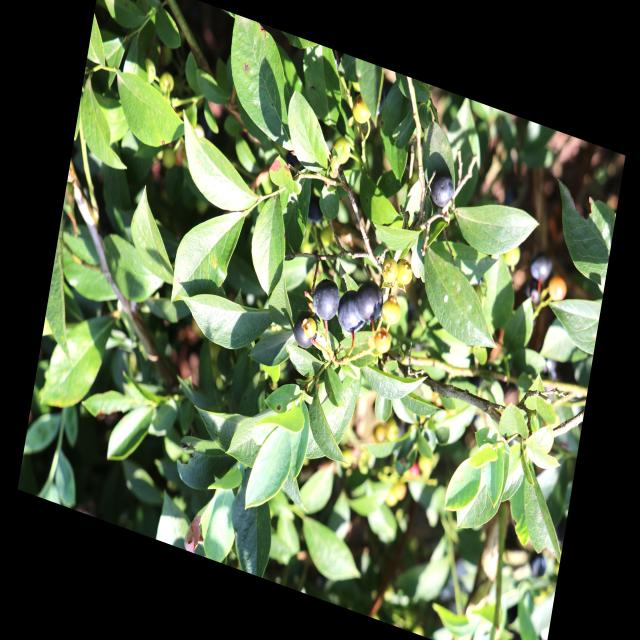blueberry: (310, 271, 344, 325), (335, 286, 368, 338), (352, 276, 385, 327), (292, 309, 321, 351), (428, 170, 456, 212), (302, 189, 328, 228), (524, 245, 552, 281)
blueberry-halfripe: (546, 272, 568, 305)
blueberry-unripe: (350, 92, 374, 128), (380, 296, 402, 328), (394, 256, 416, 288), (372, 324, 393, 356), (380, 254, 401, 286), (331, 134, 352, 166), (301, 314, 319, 341)
